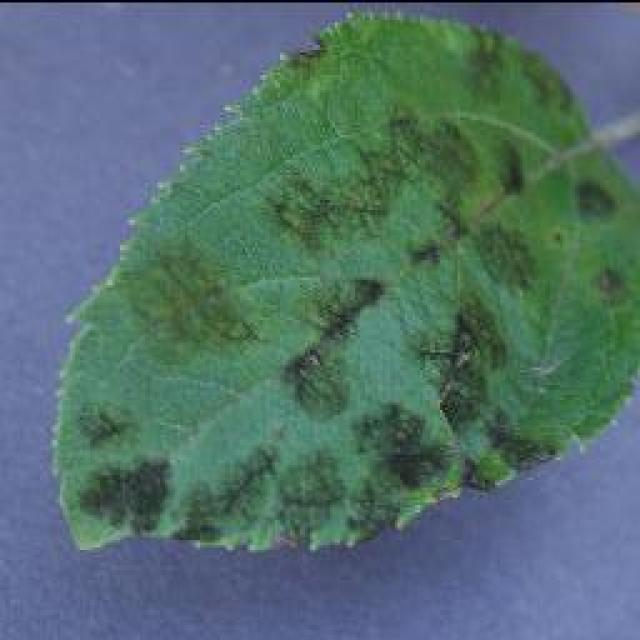apple scab disease: (50, 7, 638, 555)
